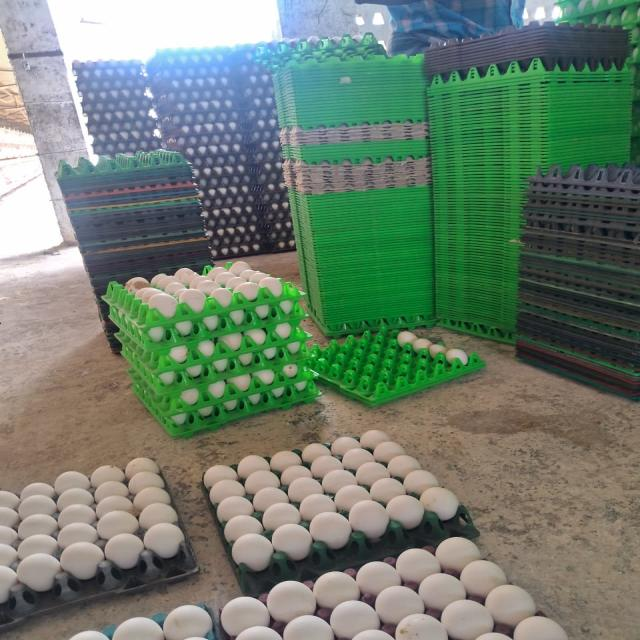egg_tray: (203, 430, 477, 594), (105, 262, 318, 434), (220, 538, 567, 640), (0, 458, 197, 630), (121, 300, 317, 423), (129, 327, 319, 436), (123, 326, 319, 430), (105, 261, 305, 352), (112, 291, 307, 364), (129, 364, 319, 436), (312, 330, 485, 406), (117, 326, 311, 390), (129, 360, 317, 424), (123, 332, 310, 396), (69, 604, 219, 640), (205, 212, 270, 260), (266, 202, 294, 252), (181, 272, 217, 286), (216, 287, 230, 298), (267, 278, 282, 286), (151, 288, 161, 299), (218, 288, 229, 297), (185, 394, 193, 404), (191, 290, 203, 296), (179, 302, 190, 308), (123, 350, 130, 359), (135, 288, 145, 294), (246, 282, 257, 287), (174, 346, 186, 350), (235, 263, 243, 268), (212, 389, 219, 393), (259, 305, 267, 308), (130, 358, 134, 363), (126, 294, 132, 297), (177, 322, 181, 326), (123, 344, 126, 348), (199, 282, 202, 285), (225, 271, 228, 274), (261, 214, 263, 218), (150, 298, 152, 302), (189, 336, 193, 338), (185, 380, 187, 383), (183, 296, 185, 299), (153, 354, 156, 356), (169, 296, 172, 298), (177, 271, 179, 274), (263, 294, 265, 296), (182, 433, 186, 434), (138, 298, 140, 300), (185, 289, 189, 290), (237, 294, 240, 295), (112, 307, 113, 309), (298, 294, 299, 296), (264, 288, 266, 289), (272, 282, 273, 284), (258, 359, 259, 359), (256, 354, 259, 354), (231, 374, 233, 374), (150, 330, 152, 330), (292, 285, 293, 285), (305, 363, 305, 363), (125, 332, 125, 332), (143, 304, 143, 306), (242, 303, 243, 303), (184, 303, 185, 303), (172, 277, 175, 277), (210, 272, 212, 272)
